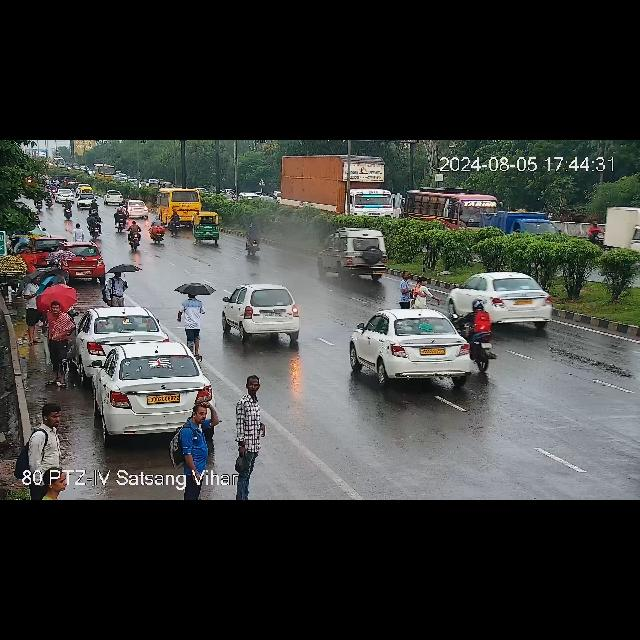bus: (157, 189, 209, 227)
car: (90, 346, 208, 438), (348, 307, 476, 383), (451, 272, 555, 324), (75, 306, 167, 362), (225, 283, 309, 343), (319, 229, 389, 283), (57, 241, 105, 281), (191, 212, 223, 244), (34, 235, 66, 262), (123, 198, 151, 216), (102, 191, 128, 205), (75, 194, 89, 212), (56, 188, 74, 200), (76, 184, 94, 194)
motorcycle: (238, 374, 266, 490), (458, 302, 499, 372), (35, 398, 73, 464), (189, 400, 219, 468), (400, 274, 432, 308), (238, 226, 264, 260), (150, 220, 170, 247), (113, 206, 129, 232), (168, 212, 184, 236), (588, 220, 602, 247), (60, 200, 76, 218), (89, 211, 101, 235), (46, 190, 54, 210), (90, 199, 98, 211)
person: (40, 300, 70, 382), (175, 286, 208, 354), (26, 276, 42, 344), (107, 272, 125, 306), (23, 245, 34, 277), (74, 224, 85, 240)
truck: (277, 150, 399, 216), (398, 188, 498, 235), (485, 210, 559, 236), (604, 205, 636, 258)
